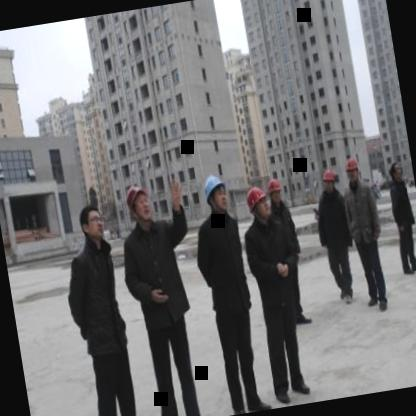head: (75, 199, 108, 247), (384, 156, 402, 184)
helmet: (199, 168, 233, 219), (122, 178, 156, 229), (242, 181, 272, 225), (264, 171, 283, 205), (340, 152, 360, 184), (320, 164, 338, 193)
